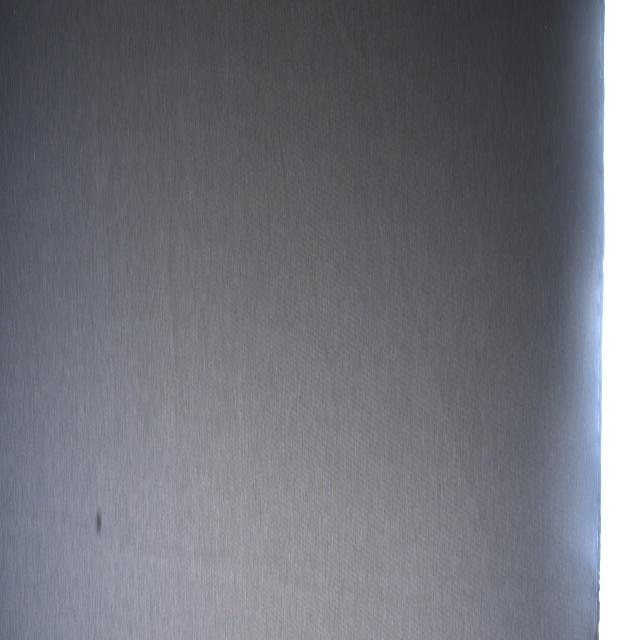crease: (370, 187, 500, 585), (295, 219, 343, 438), (324, 2, 358, 88)
